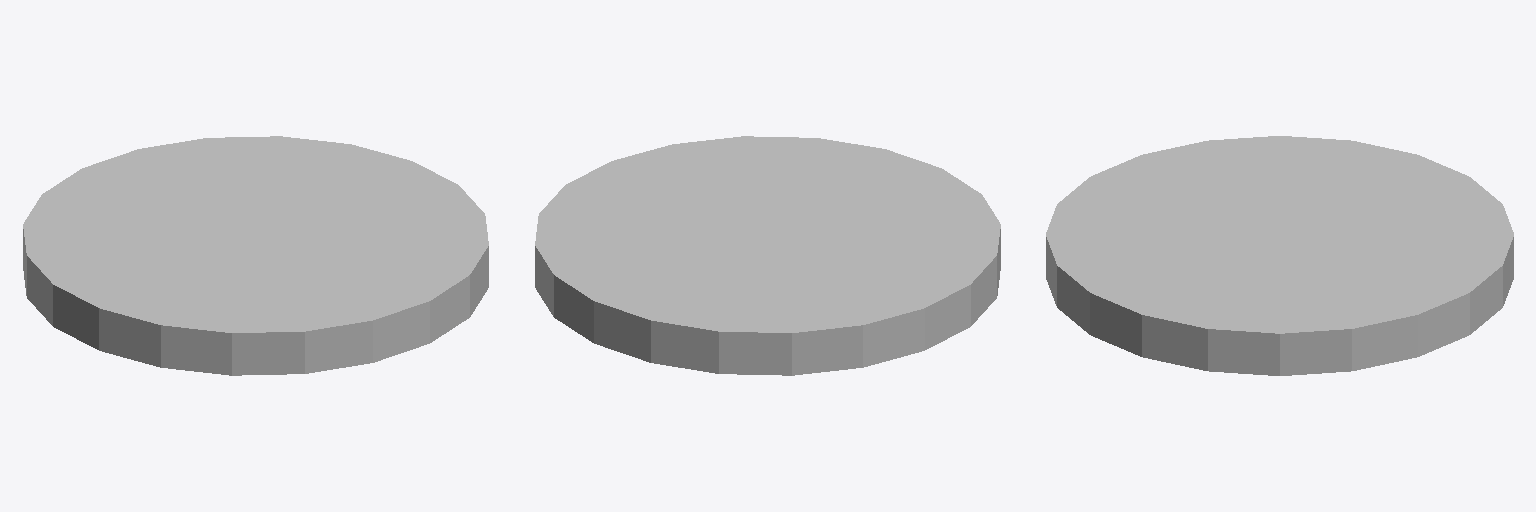
Rendered from point.obj.
3 renders of one model, left to right at view 1: azimuth 30°, elevation 25°; view 2: azimuth 150°, elevation 25°; view 3: azimuth 270°, elevation 25°, orthographic.
Parts seen in each view (by area): view 1: pCylinder1; view 2: pCylinder1; view 3: pCylinder1.
Part boxes in pixels (bbox=[...]): pCylinder1: bbox=[23, 136, 488, 375]; pCylinder1: bbox=[535, 136, 1000, 375]; pCylinder1: bbox=[1046, 136, 1513, 375].
Bounding box in the file's own units: 0.2205 × 0.022 × 0.2205.